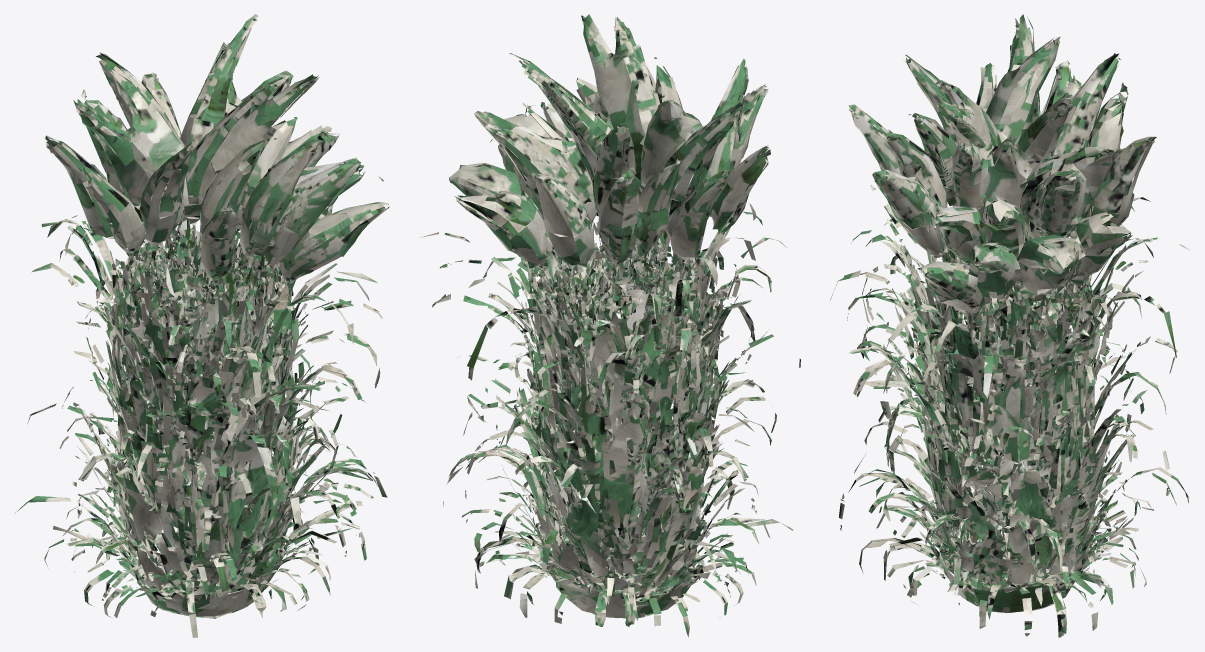
Rendered from veg_ground_pampas_01.obj.
3 renders of one model, left to right at view 1: azimuth 30°, elevation 25°; view 2: azimuth 150°, elevation 25°; view 3: azimuth 270°, elevation 25°, orthographic.
Parts seen in each view (by area): view 1: veg_ground_pampas_01; view 2: veg_ground_pampas_01; view 3: veg_ground_pampas_01.
Part boxes in pixels (x1,y1,x2,y2): veg_ground_pampas_01: [15, 14, 389, 637]; veg_ground_pampas_01: [420, 14, 800, 637]; veg_ground_pampas_01: [830, 14, 1190, 637].
Size of the model in its own units: 2.44 by 4.09 by 2.5.
Materials: 1 (1 with a texture image).
